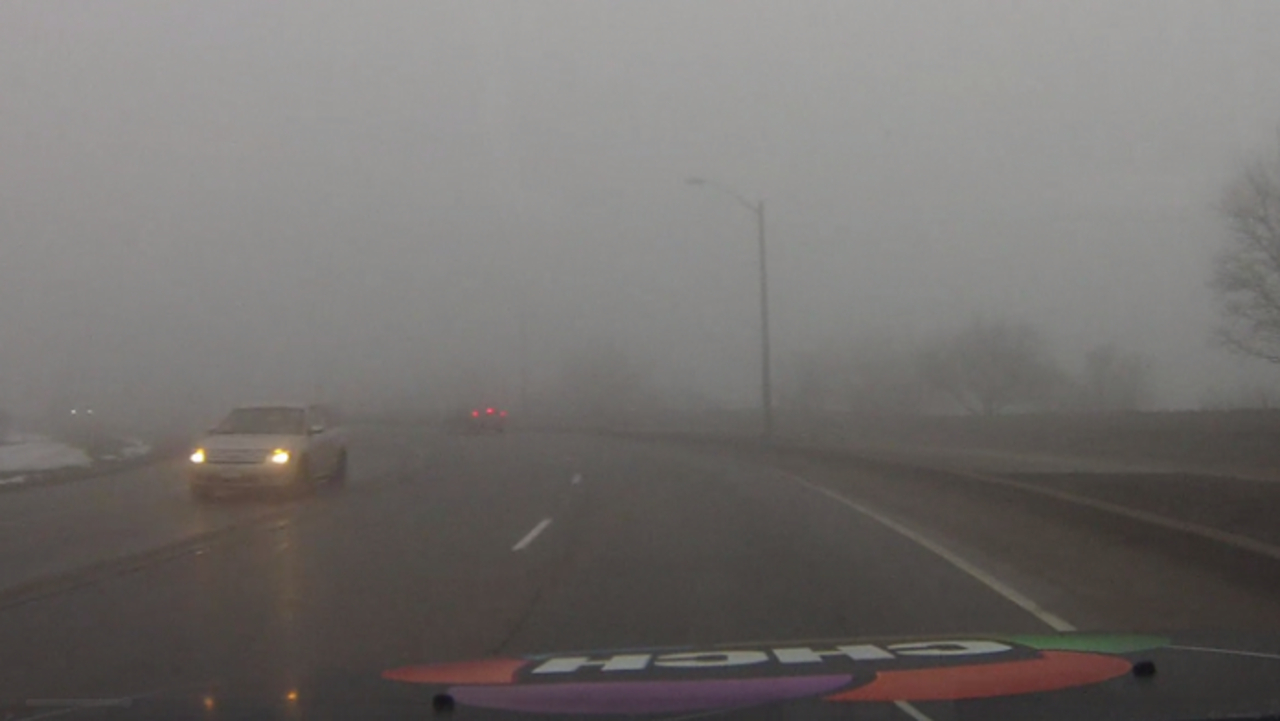car: (184, 403, 353, 500), (456, 398, 506, 434)
